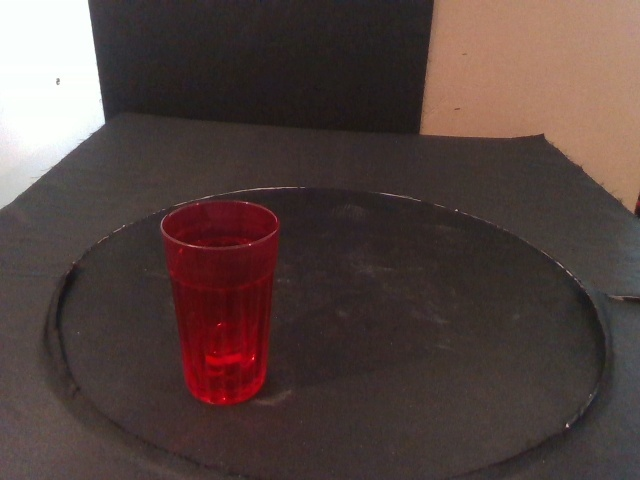glass: (161, 199, 281, 407)
